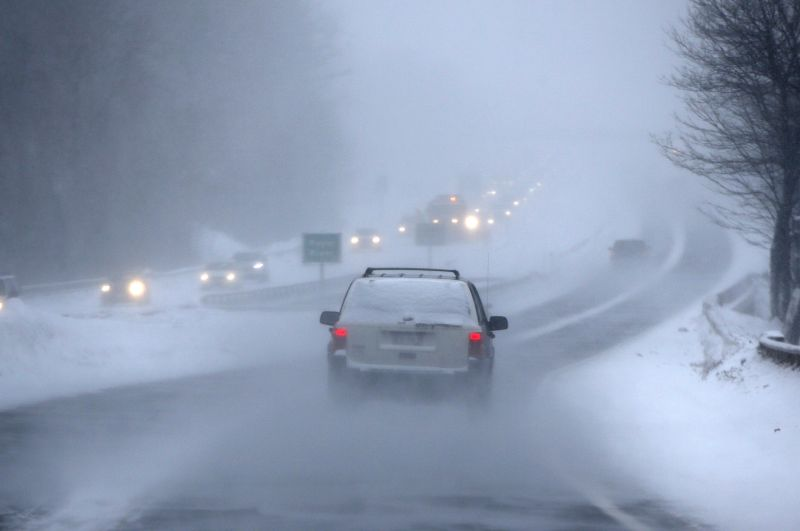car: (316, 262, 509, 432)
